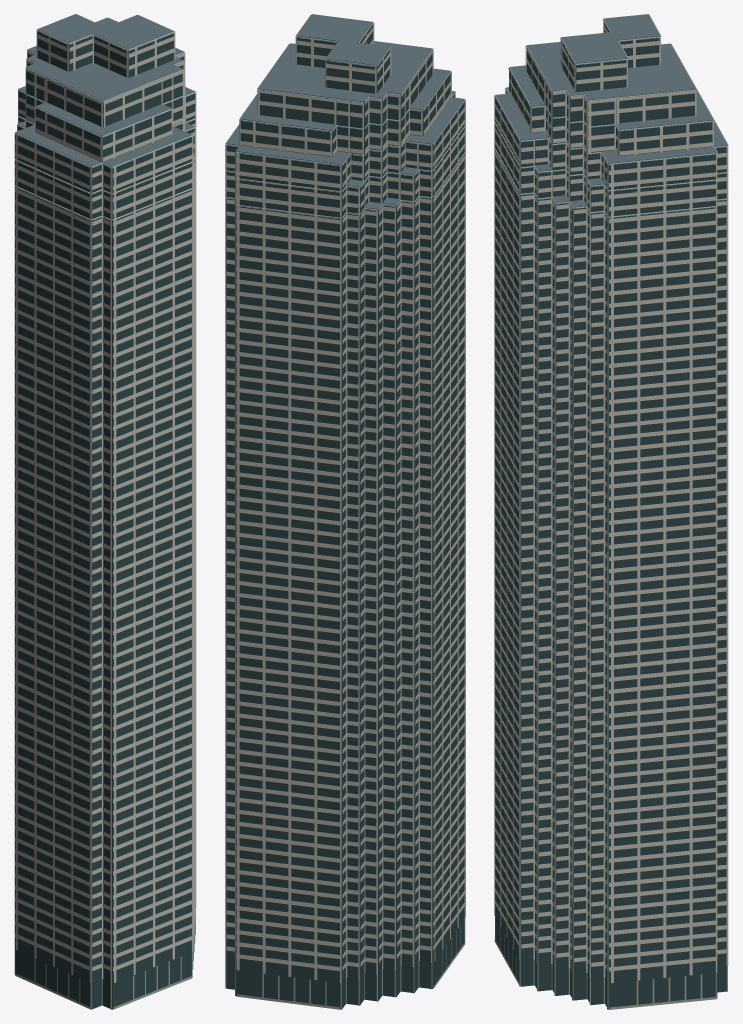
Rendered from bank-of-america-plaza-dallas-far.glb.
3 views of the same model, side by side, from view 1: azimuth 30°, elevation 25°; view 2: azimuth 150°, elevation 25°; view 3: azimuth 270°, elevation 25° (orthographic).
Visible parts, largest first — view 1: bank-of-america-plaza-dallas-0-glass, bank-of-america-plaza-dallas-0-band, bank-of-america-plaza-dallas-0-light, bank-of-america-plaza-dallas-0-roof, bank-of-america-plaza-dallas-0-stone; view 2: bank-of-america-plaza-dallas-0-glass, bank-of-america-plaza-dallas-0-band, bank-of-america-plaza-dallas-0-light, bank-of-america-plaza-dallas-0-roof, bank-of-america-plaza-dallas-0-stone; view 3: bank-of-america-plaza-dallas-0-glass, bank-of-america-plaza-dallas-0-band, bank-of-america-plaza-dallas-0-light, bank-of-america-plaza-dallas-0-roof, bank-of-america-plaza-dallas-0-stone.
Part boxes in pixels (x1=…): bank-of-america-plaza-dallas-0-glass: x1=15, y1=29, x2=194, y2=1009; bank-of-america-plaza-dallas-0-band: x1=15, y1=32, x2=196, y2=982; bank-of-america-plaza-dallas-0-light: x1=14, y1=14, x2=195, y2=1009; bank-of-america-plaza-dallas-0-roof: x1=15, y1=14, x2=194, y2=166; bank-of-america-plaza-dallas-0-stone: x1=15, y1=956, x2=191, y2=1009; bank-of-america-plaza-dallas-0-glass: x1=226, y1=22, x2=464, y2=1009; bank-of-america-plaza-dallas-0-band: x1=226, y1=22, x2=465, y2=983; bank-of-america-plaza-dallas-0-light: x1=225, y1=14, x2=465, y2=1009; bank-of-america-plaza-dallas-0-roof: x1=226, y1=14, x2=464, y2=208; bank-of-america-plaza-dallas-0-stone: x1=237, y1=924, x2=464, y2=1009; bank-of-america-plaza-dallas-0-glass: x1=495, y1=21, x2=727, y2=1009; bank-of-america-plaza-dallas-0-band: x1=494, y1=21, x2=728, y2=983; bank-of-america-plaza-dallas-0-light: x1=494, y1=14, x2=728, y2=1009; bank-of-america-plaza-dallas-0-roof: x1=495, y1=14, x2=727, y2=207; bank-of-america-plaza-dallas-0-stone: x1=494, y1=927, x2=716, y2=1009.
Bounding box in the file's own units: 56.88 × 281 × 64.38.
